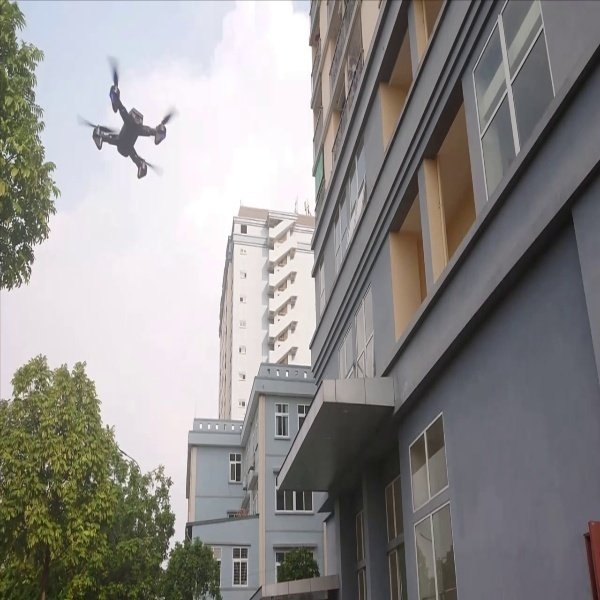drone: (67, 49, 180, 183)
